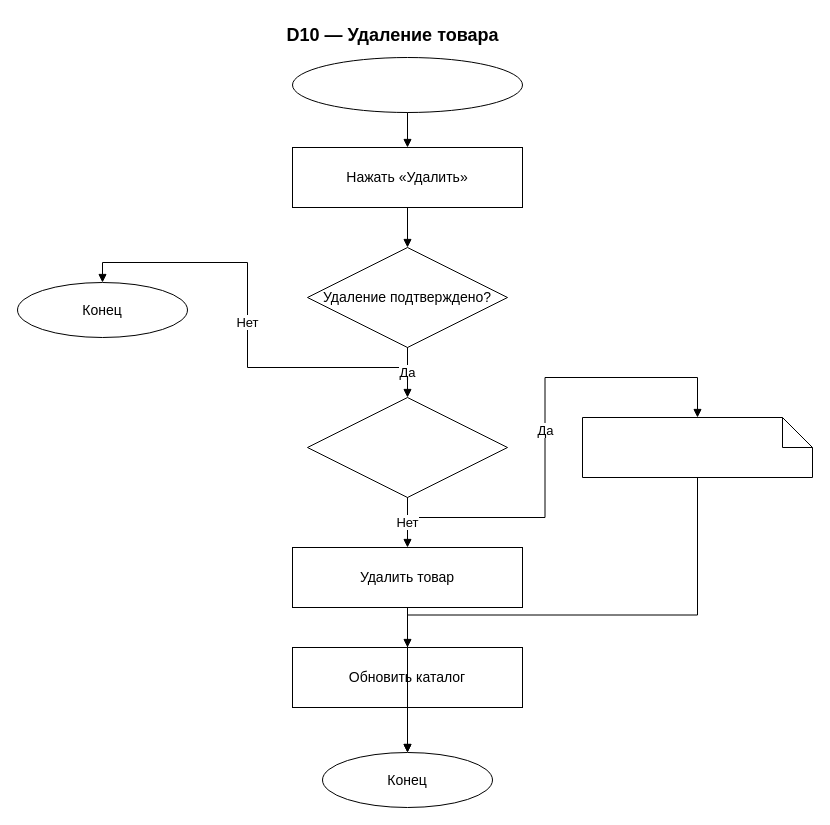
This 830x825 diagram has some shape labels left out. Each missing label, with the centre of its shape:
"Начало: выбран товар" goes at point 407,84.
"Товар есть в заказе?" goes at point 407,447.
"Удаление запрещено" goes at point 697,447.
